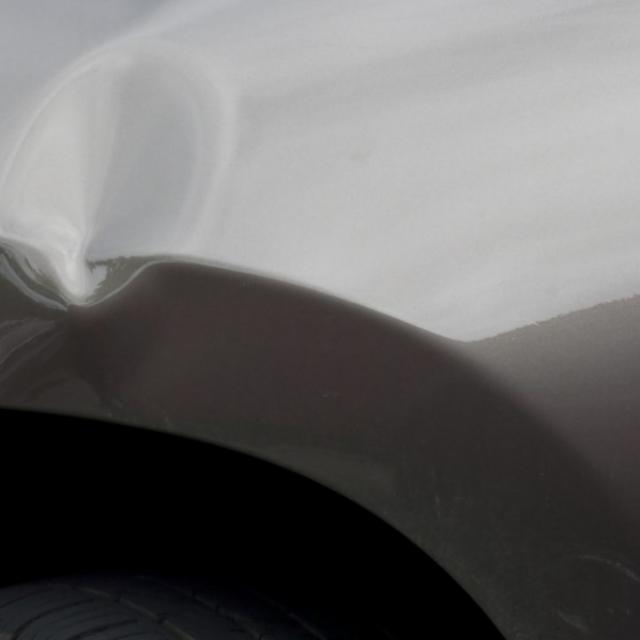dents: (1, 26, 248, 327)
